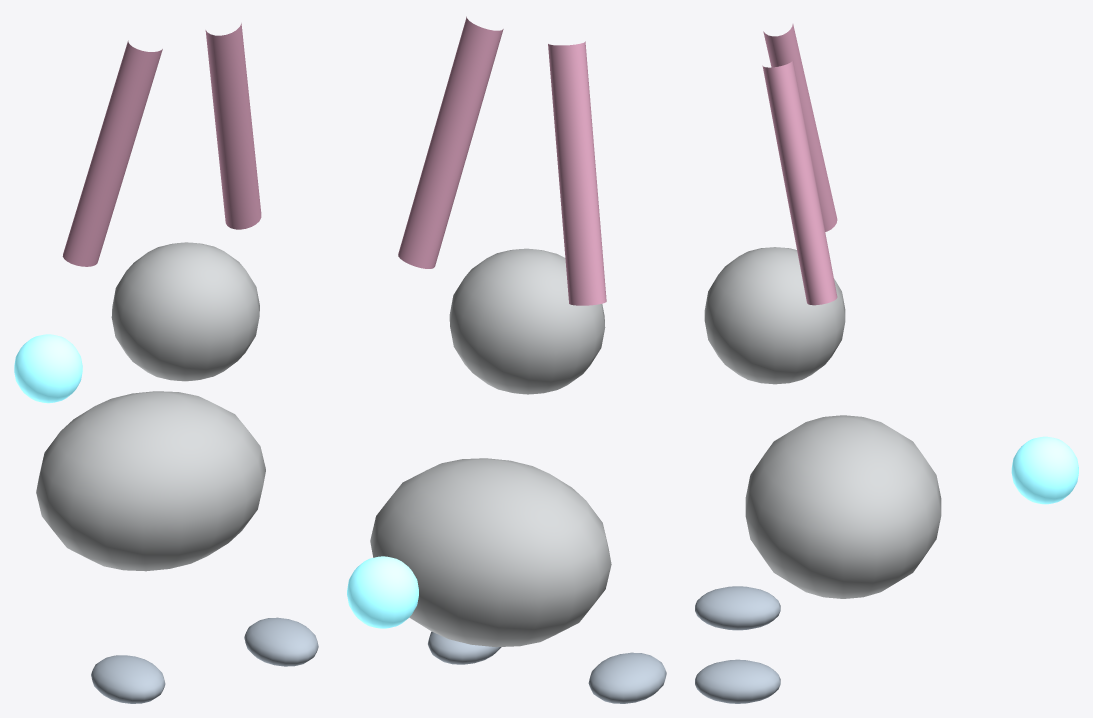
File: cloud-rabbit.glb
The picture shows the model from 3 angles, left to right: view 1: azimuth 30°, elevation 25°; view 2: azimuth 150°, elevation 25°; view 3: azimuth 270°, elevation 25°; orthographic projection. The views are drawn at different scales.
Visible parts, largest first — view 1: cloud-rabbit-body, cloud-rabbit-head, cloud-rabbit-left-ear, cloud-rabbit-right-ear, cloud-rabbit-tail, cloud-rabbit-right-foot, cloud-rabbit-left-foot; view 2: cloud-rabbit-body, cloud-rabbit-head, cloud-rabbit-left-ear, cloud-rabbit-right-ear, cloud-rabbit-tail, cloud-rabbit-left-foot, cloud-rabbit-right-foot; view 3: cloud-rabbit-body, cloud-rabbit-head, cloud-rabbit-right-ear, cloud-rabbit-tail, cloud-rabbit-left-ear, cloud-rabbit-left-foot, cloud-rabbit-right-foot.
Boxes of the visible parts, x1,y1,x2,y2 form: cloud-rabbit-body: [36, 391, 265, 571]; cloud-rabbit-head: [111, 242, 259, 381]; cloud-rabbit-left-ear: [62, 40, 162, 266]; cloud-rabbit-right-ear: [205, 23, 261, 229]; cloud-rabbit-tail: [14, 334, 82, 403]; cloud-rabbit-right-foot: [244, 617, 318, 666]; cloud-rabbit-left-foot: [91, 655, 165, 703]; cloud-rabbit-body: [370, 458, 611, 647]; cloud-rabbit-head: [449, 248, 605, 394]; cloud-rabbit-left-ear: [548, 41, 606, 305]; cloud-rabbit-right-ear: [398, 16, 503, 268]; cloud-rabbit-tail: [347, 556, 418, 628]; cloud-rabbit-left-foot: [588, 652, 666, 703]; cloud-rabbit-right-foot: [428, 631, 501, 664]; cloud-rabbit-body: [745, 415, 941, 598]; cloud-rabbit-head: [704, 247, 845, 384]; cloud-rabbit-right-ear: [762, 60, 837, 305]; cloud-rabbit-tail: [1011, 436, 1078, 504]; cloud-rabbit-left-ear: [763, 24, 837, 231]; cloud-rabbit-left-foot: [695, 586, 780, 630]; cloud-rabbit-right-foot: [695, 659, 780, 703].
Bounding box in the file's own units: 0.78 × 2.21 × 1.24.
